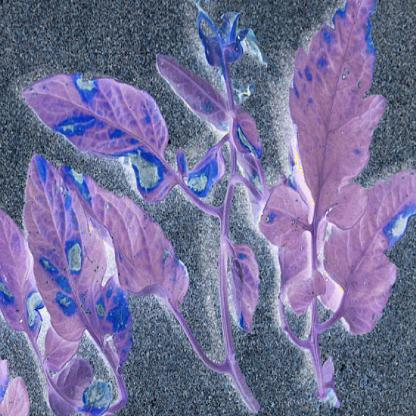potato leaf early blight: (20, 72, 178, 212), (290, 1, 387, 204), (23, 150, 100, 341), (326, 165, 415, 292), (60, 361, 116, 414)
